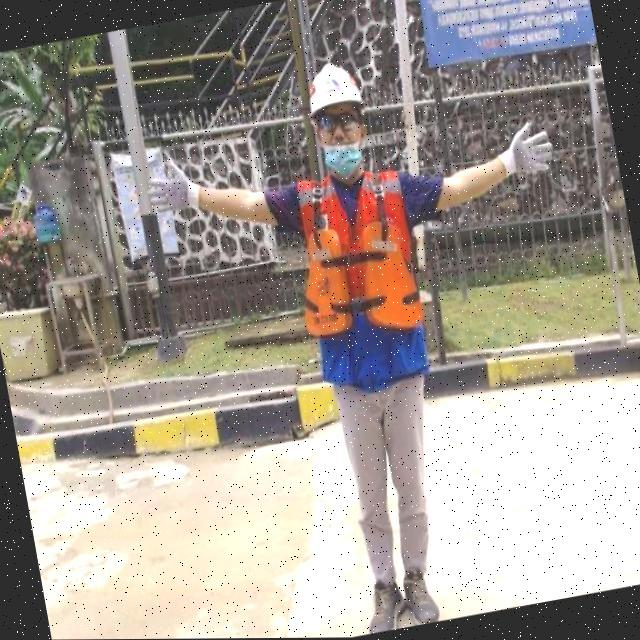goggles_on: (317, 110, 362, 135)
